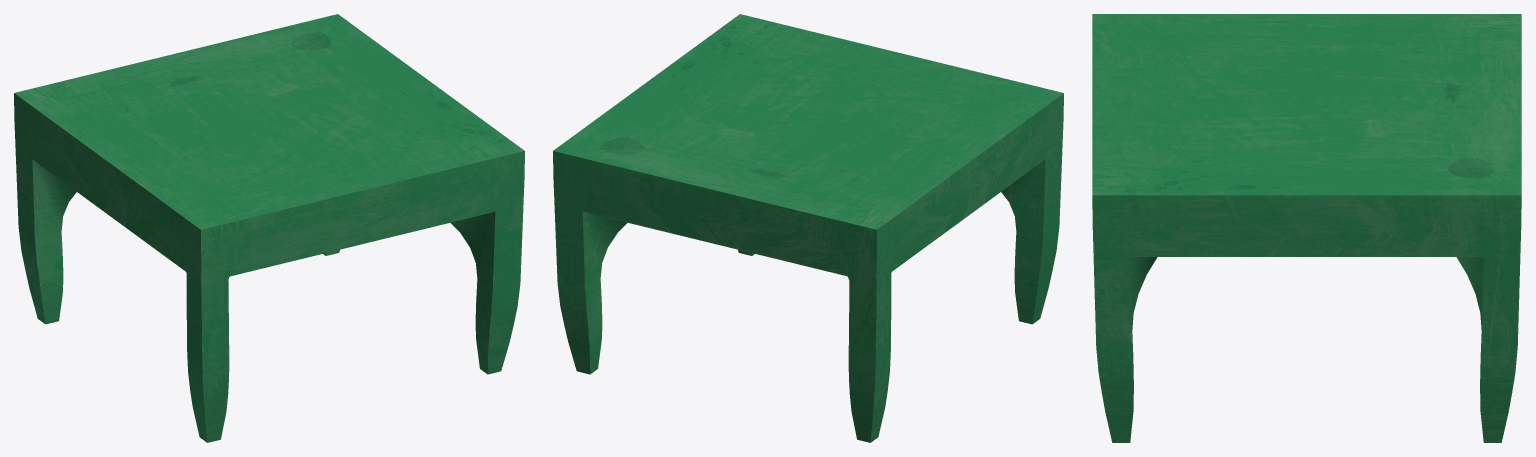
Rendered from table1.fbx.
The picture shows the model from 3 angles, left to right: view 1: azimuth 30°, elevation 25°; view 2: azimuth 150°, elevation 25°; view 3: azimuth 270°, elevation 25°; orthographic projection. The views are drawn at different scales.
Parts seen in each view (by area): view 1: Cube; view 2: Cube; view 3: Cube.
Part boxes in pixels (box(x1,y1,x2,y2)): Cube: box(14, 14, 524, 442); Cube: box(553, 14, 1063, 442); Cube: box(1092, 14, 1521, 442).
Bounding box in the file's own units: 130 × 85.56 × 130.
1 material, 1 textured.
